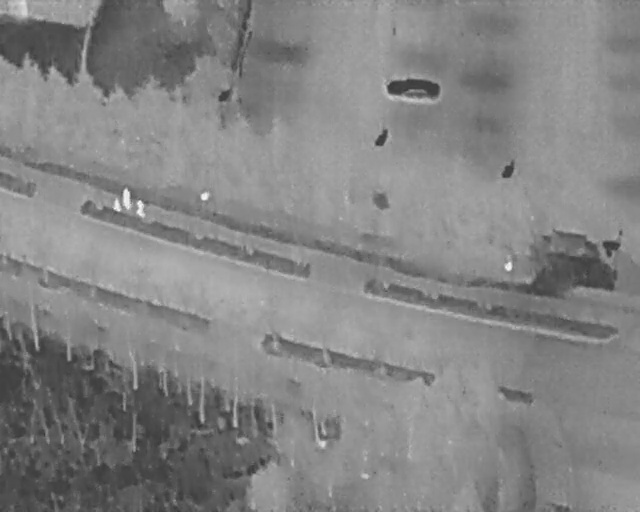Car: (534, 230, 618, 290), (387, 78, 440, 102)
Person: (122, 186, 132, 211), (136, 199, 146, 217), (112, 197, 122, 214)
